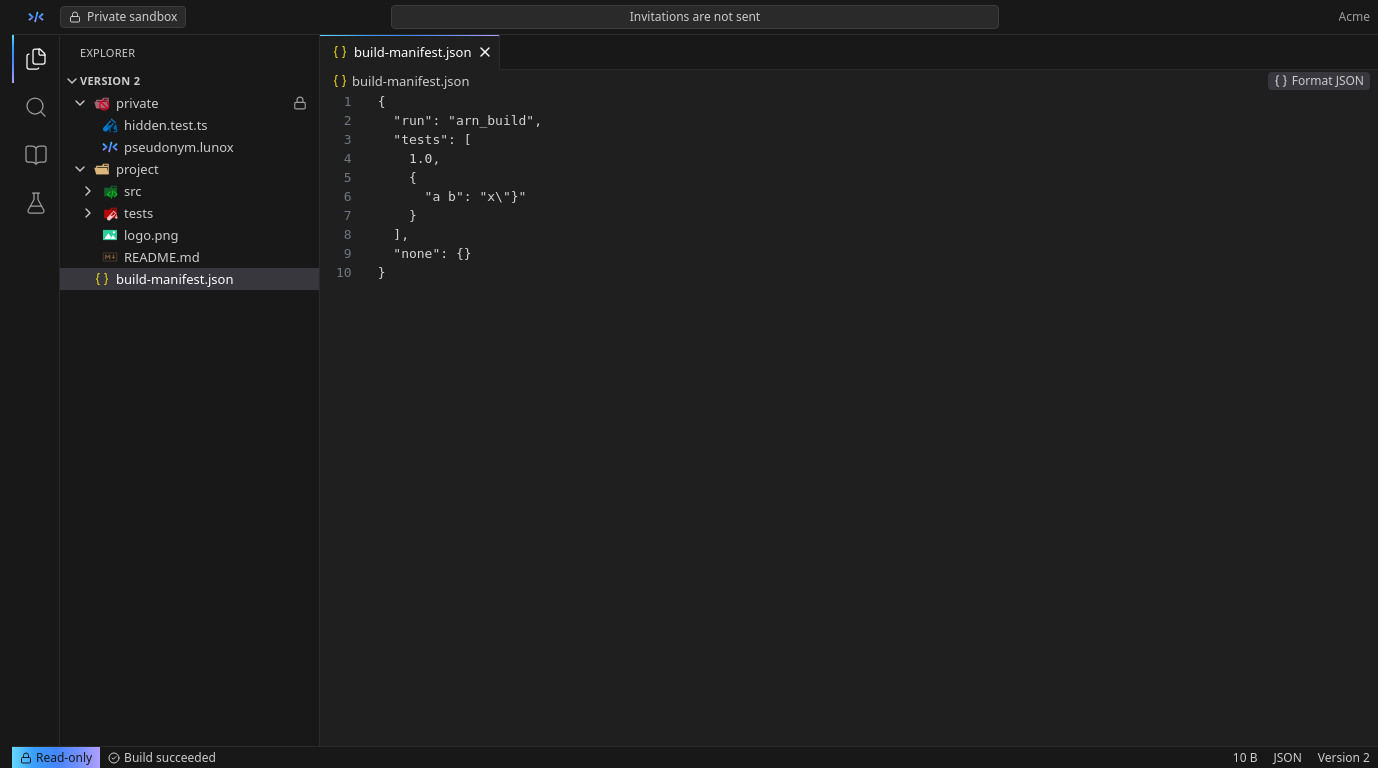
Scenario: a JSON file opens formatted, and can be shown as written
This screenshot has width=1378, height=768.
Click the button "Format JSON" at (1319, 81), box [1268,72,1370,90]
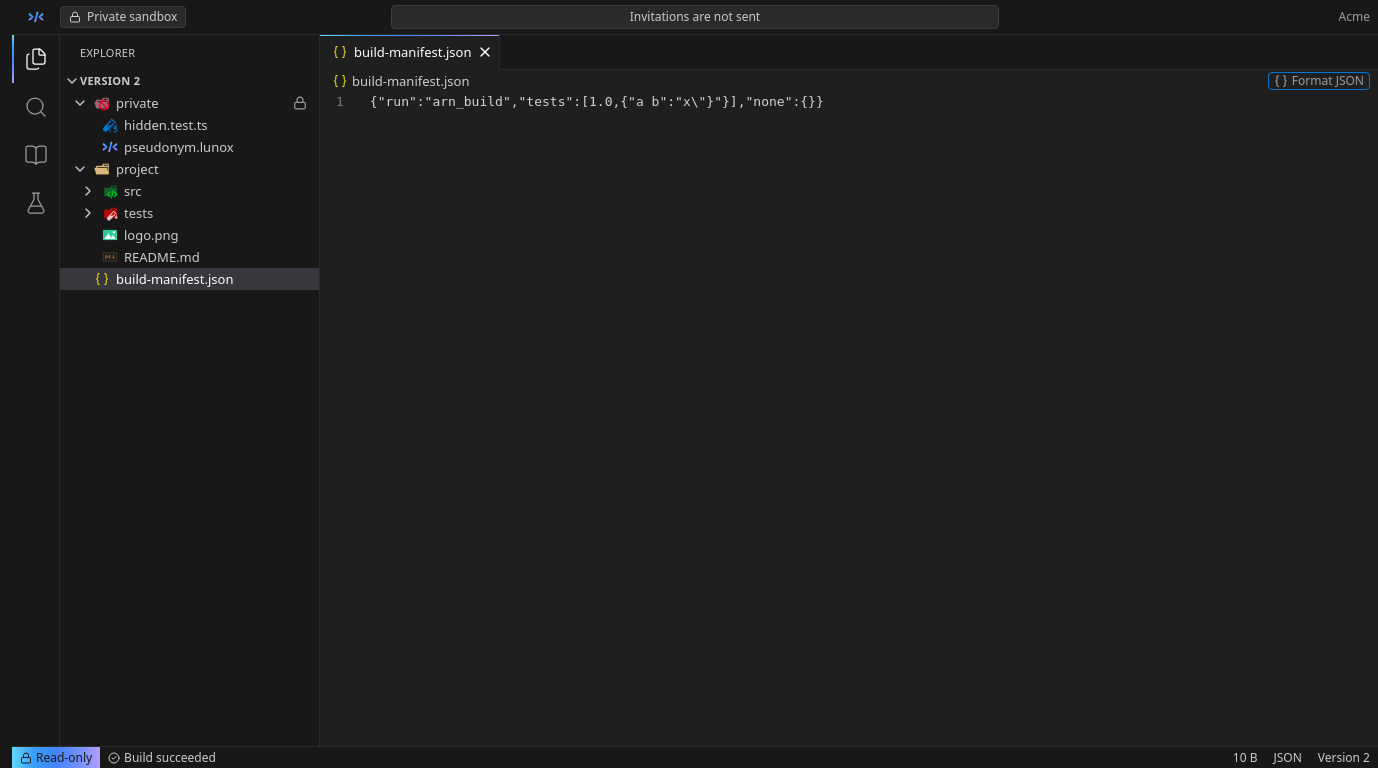
Check: the element with test id "file-source" reads "{\"run\":\"arn_build\",\"tests\":[1.0,{\"a b\":\"x\\\"}\"}],\"none\":{}}", box [370,94,824,109]
